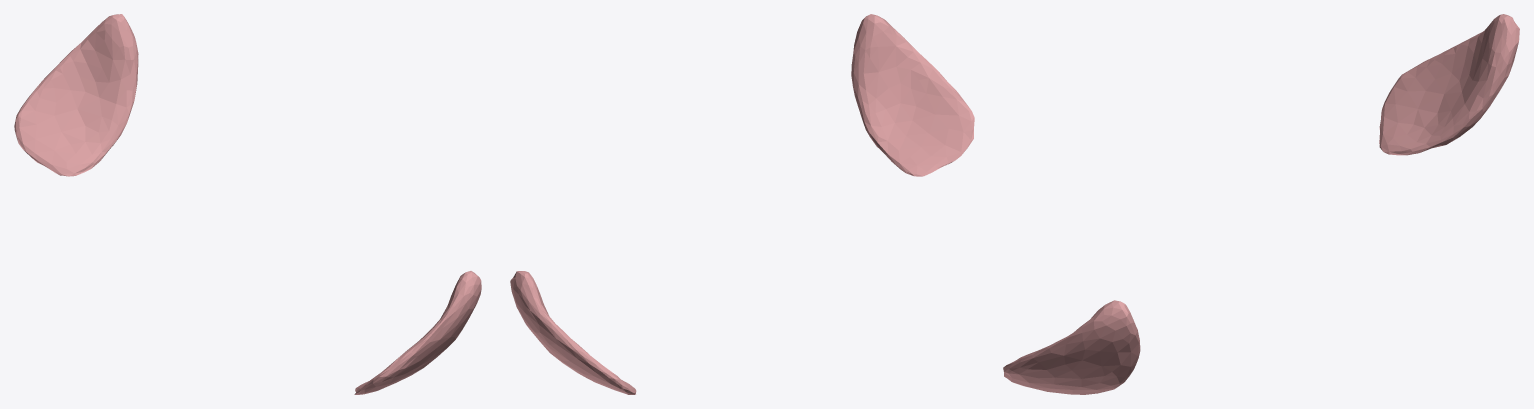
The picture shows the model from 3 angles, left to right: view 1: azimuth 30°, elevation 25°; view 2: azimuth 150°, elevation 25°; view 3: azimuth 330°, elevation 25°; orthographic projection. The views are drawn at different scales.
Visible parts, largest first — view 1: 496345664.obj; view 2: 496345664.obj; view 3: 496345664.obj.
Part boxes in pixels (box(x1,y1,x2,y2)): 496345664.obj: box(14, 14, 481, 394); 496345664.obj: box(510, 14, 974, 394); 496345664.obj: box(1003, 14, 1519, 394).
Size of the model in its own units: 969 by 939 by 5298.
